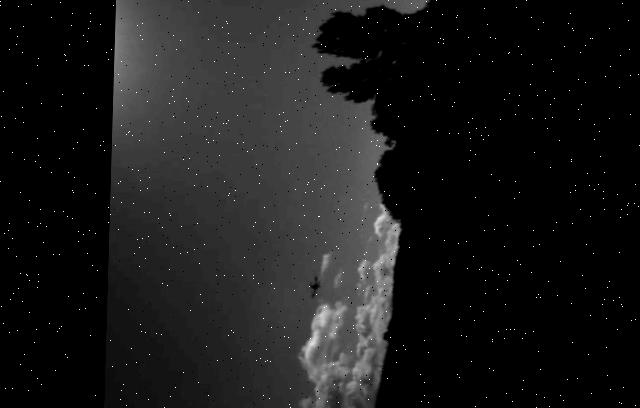drone: (306, 274, 325, 300)
